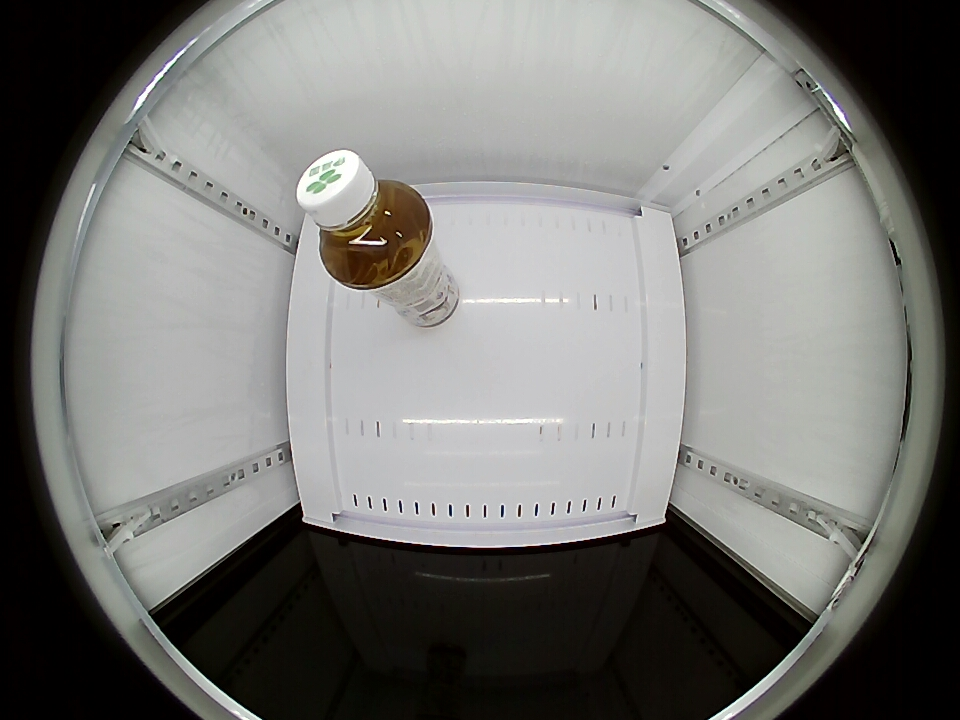baicha: (297, 149, 432, 288)
